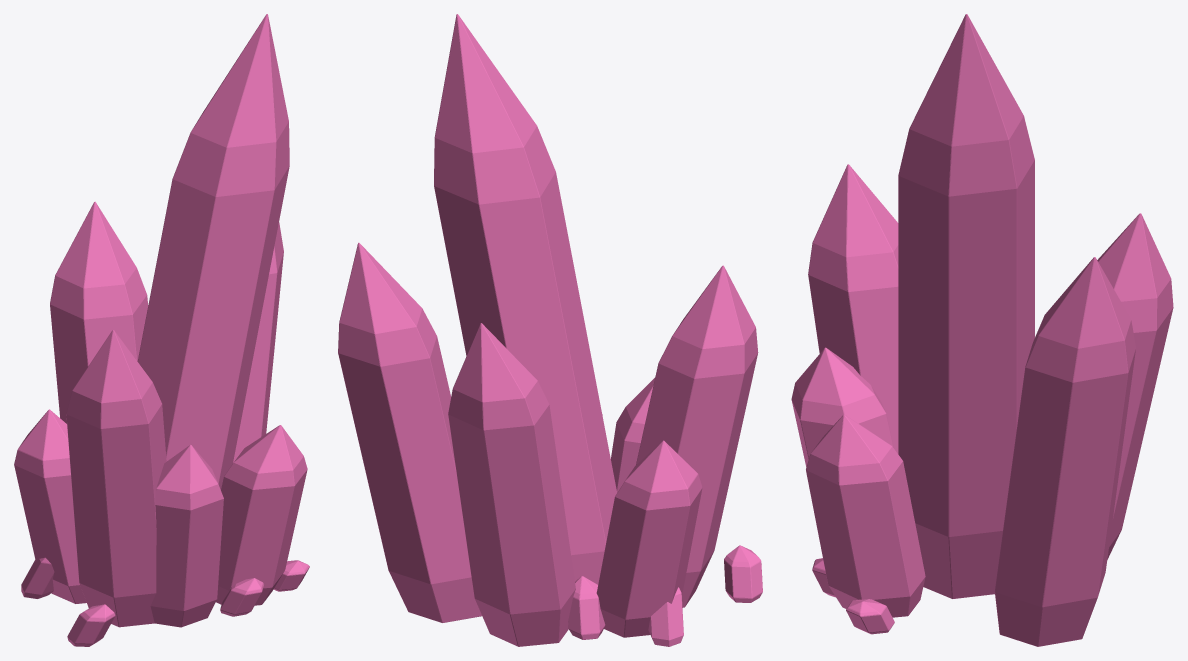
Rendered from pink-crystal.glb.
The picture shows the model from 3 angles, left to right: view 1: azimuth 30°, elevation 25°; view 2: azimuth 150°, elevation 25°; view 3: azimuth 270°, elevation 25°; orthographic projection. The views are drawn at different scales.
Visible parts, largest first — view 1: pink-crystal; view 2: pink-crystal; view 3: pink-crystal.
Boxes of the visible parts, x1,y1,x2,y2 form: pink-crystal: [14, 14, 309, 646]; pink-crystal: [338, 14, 762, 646]; pink-crystal: [791, 14, 1173, 646].
Size of the model in its own units: 1.54 by 2.6 by 1.44.
